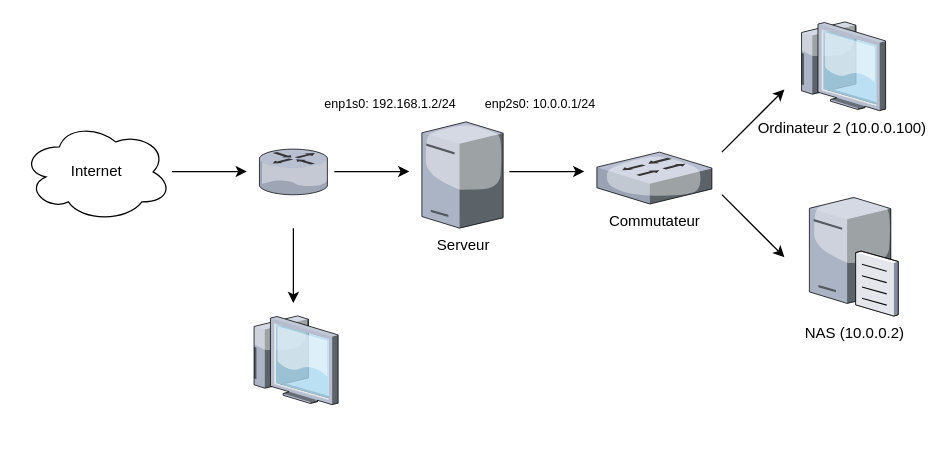
Image size: 948x453. Some labels were removed from this diagram. Each missing label, with the box of its shape:
Ordinateur 1 (192.168.1.3): (249, 315, 338, 404)
Routeur (192.168.1.1): (259, 148, 328, 194)
